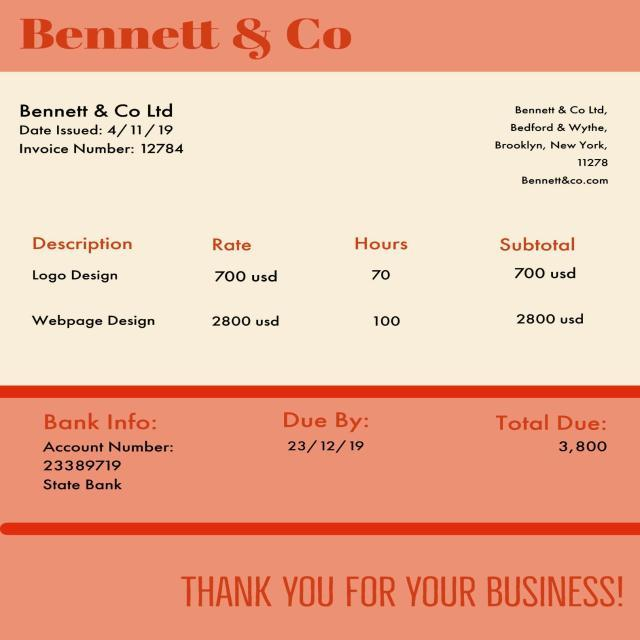ROI: (20, 224, 617, 348), (183, 568, 627, 616), (8, 10, 364, 64), (33, 404, 172, 500), (495, 96, 623, 195), (15, 101, 198, 158), (270, 403, 386, 468), (492, 400, 616, 460)
